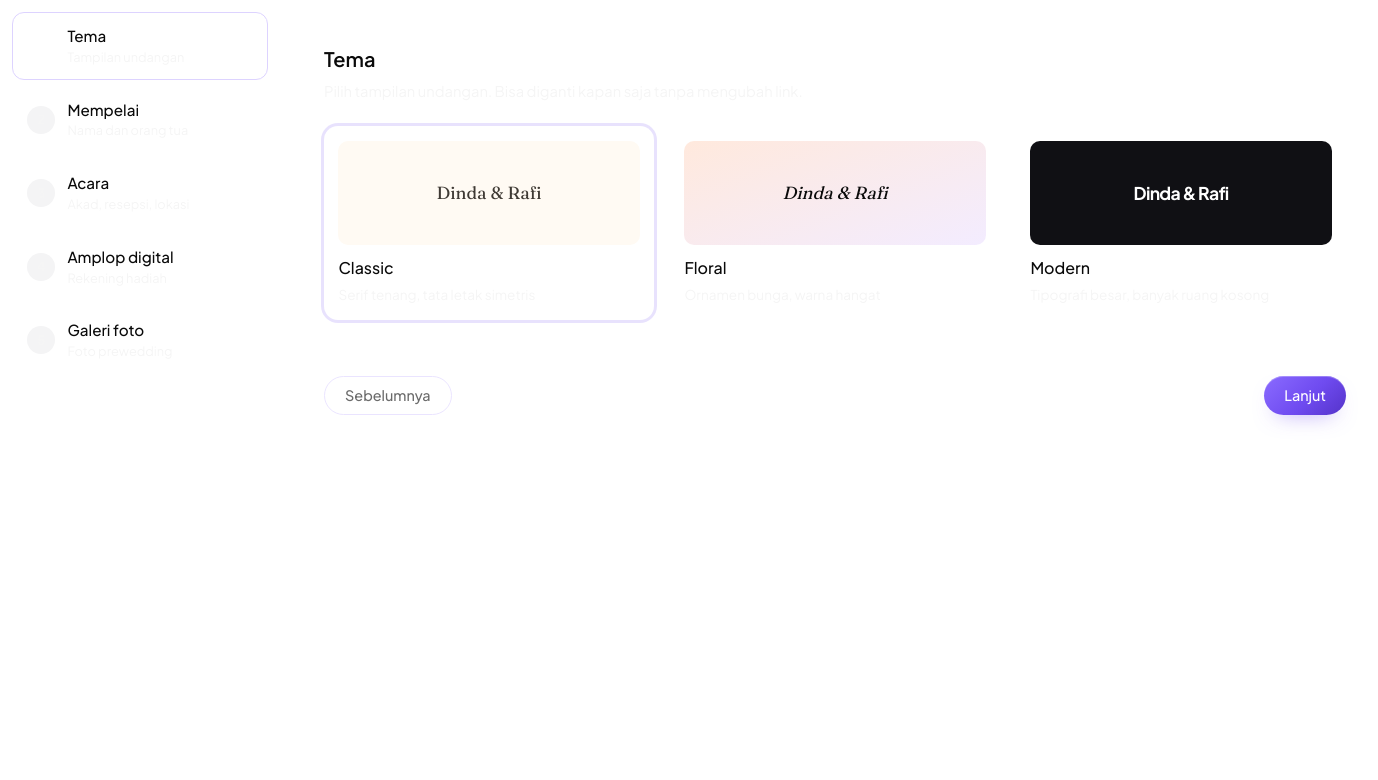
Test case: BuilderWizard › goes back from the gallery step without a disabled previous button
Click the button "5 Galeri foto Foto prewedding".
click(140, 340)  # box top-left (12, 306), bottom-right (268, 374)
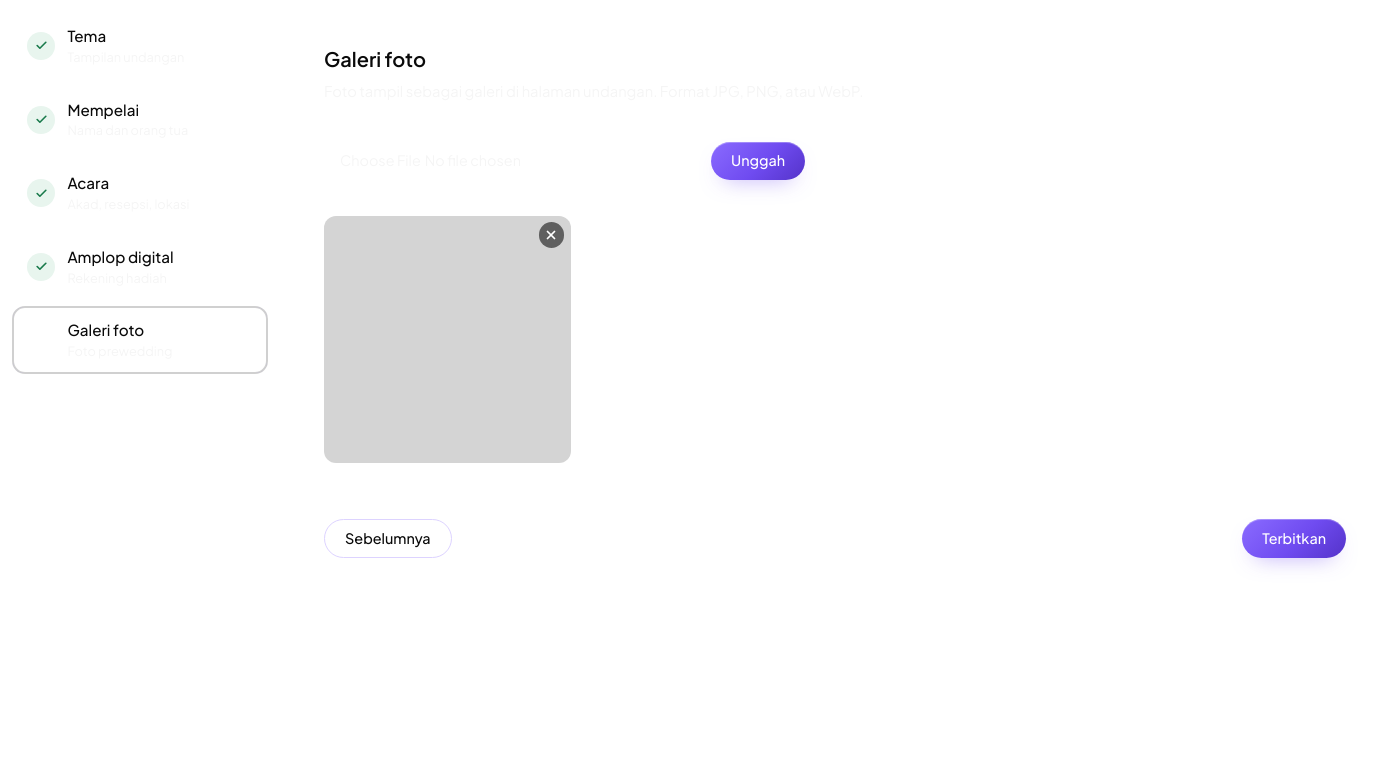
Result: the heading "Galeri foto" is shown at top-left (324, 46), bottom-right (426, 71)
Result: the button "Sebelumnya" is enabled
Click the button "Sebelumnya".
click(388, 538)  # box top-left (324, 519), bottom-right (452, 558)
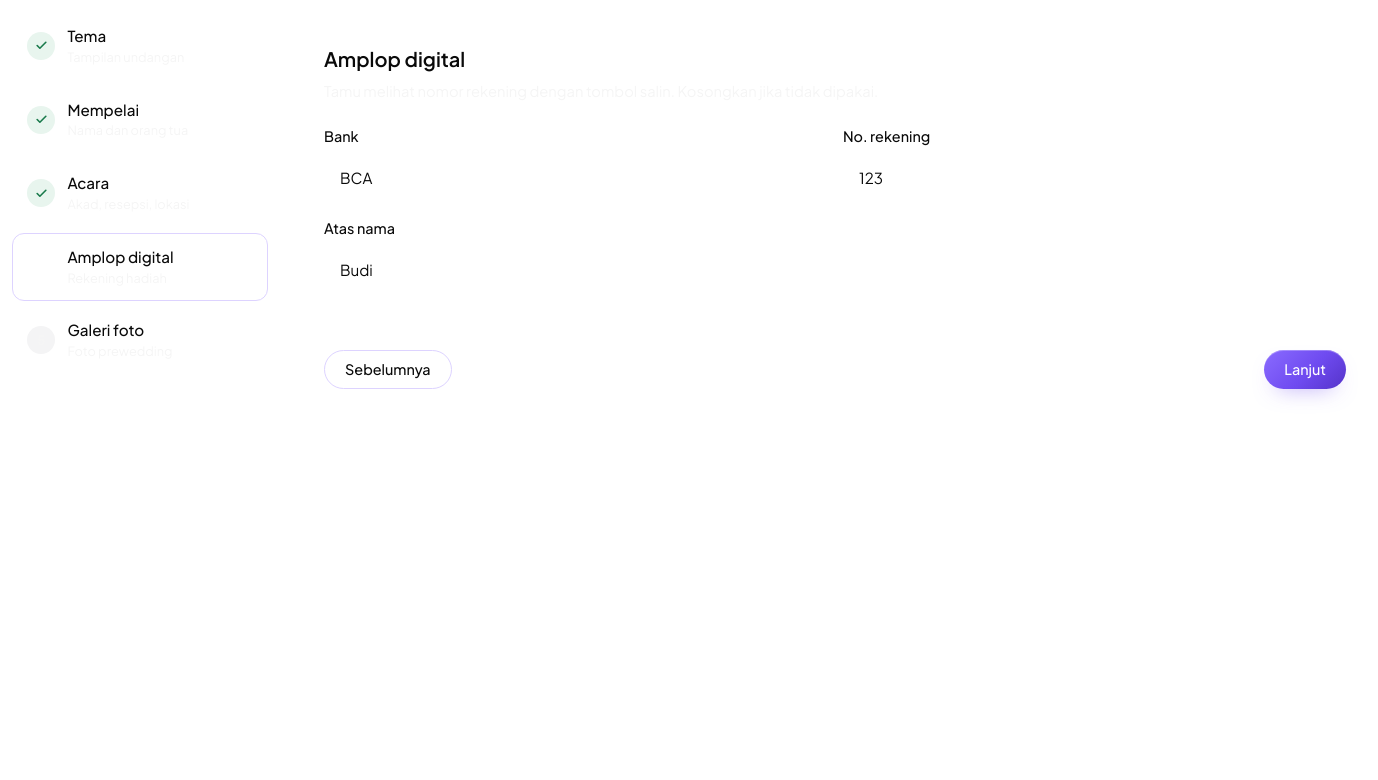
Result: the heading "Amplop digital" is shown at top-left (324, 46), bottom-right (465, 71)
